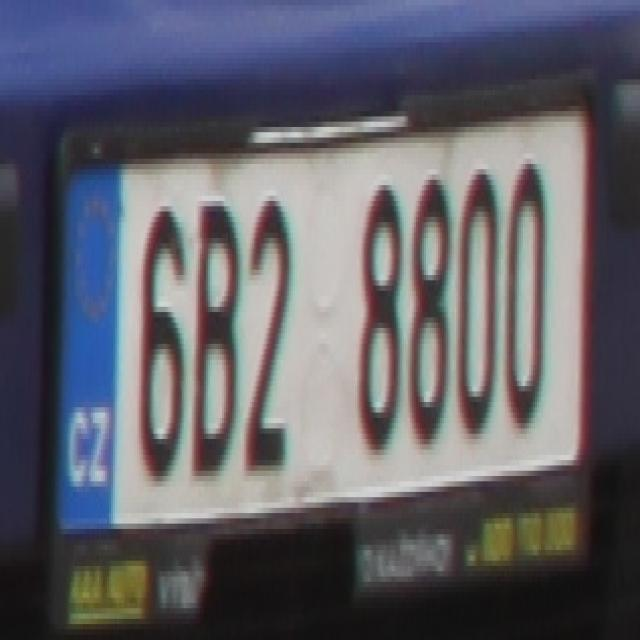0: (450, 158, 497, 434), (503, 158, 549, 428)
2: (242, 196, 291, 481)
6: (133, 201, 182, 476)
8: (351, 180, 400, 455), (408, 164, 448, 450)
B: (188, 190, 240, 487)
